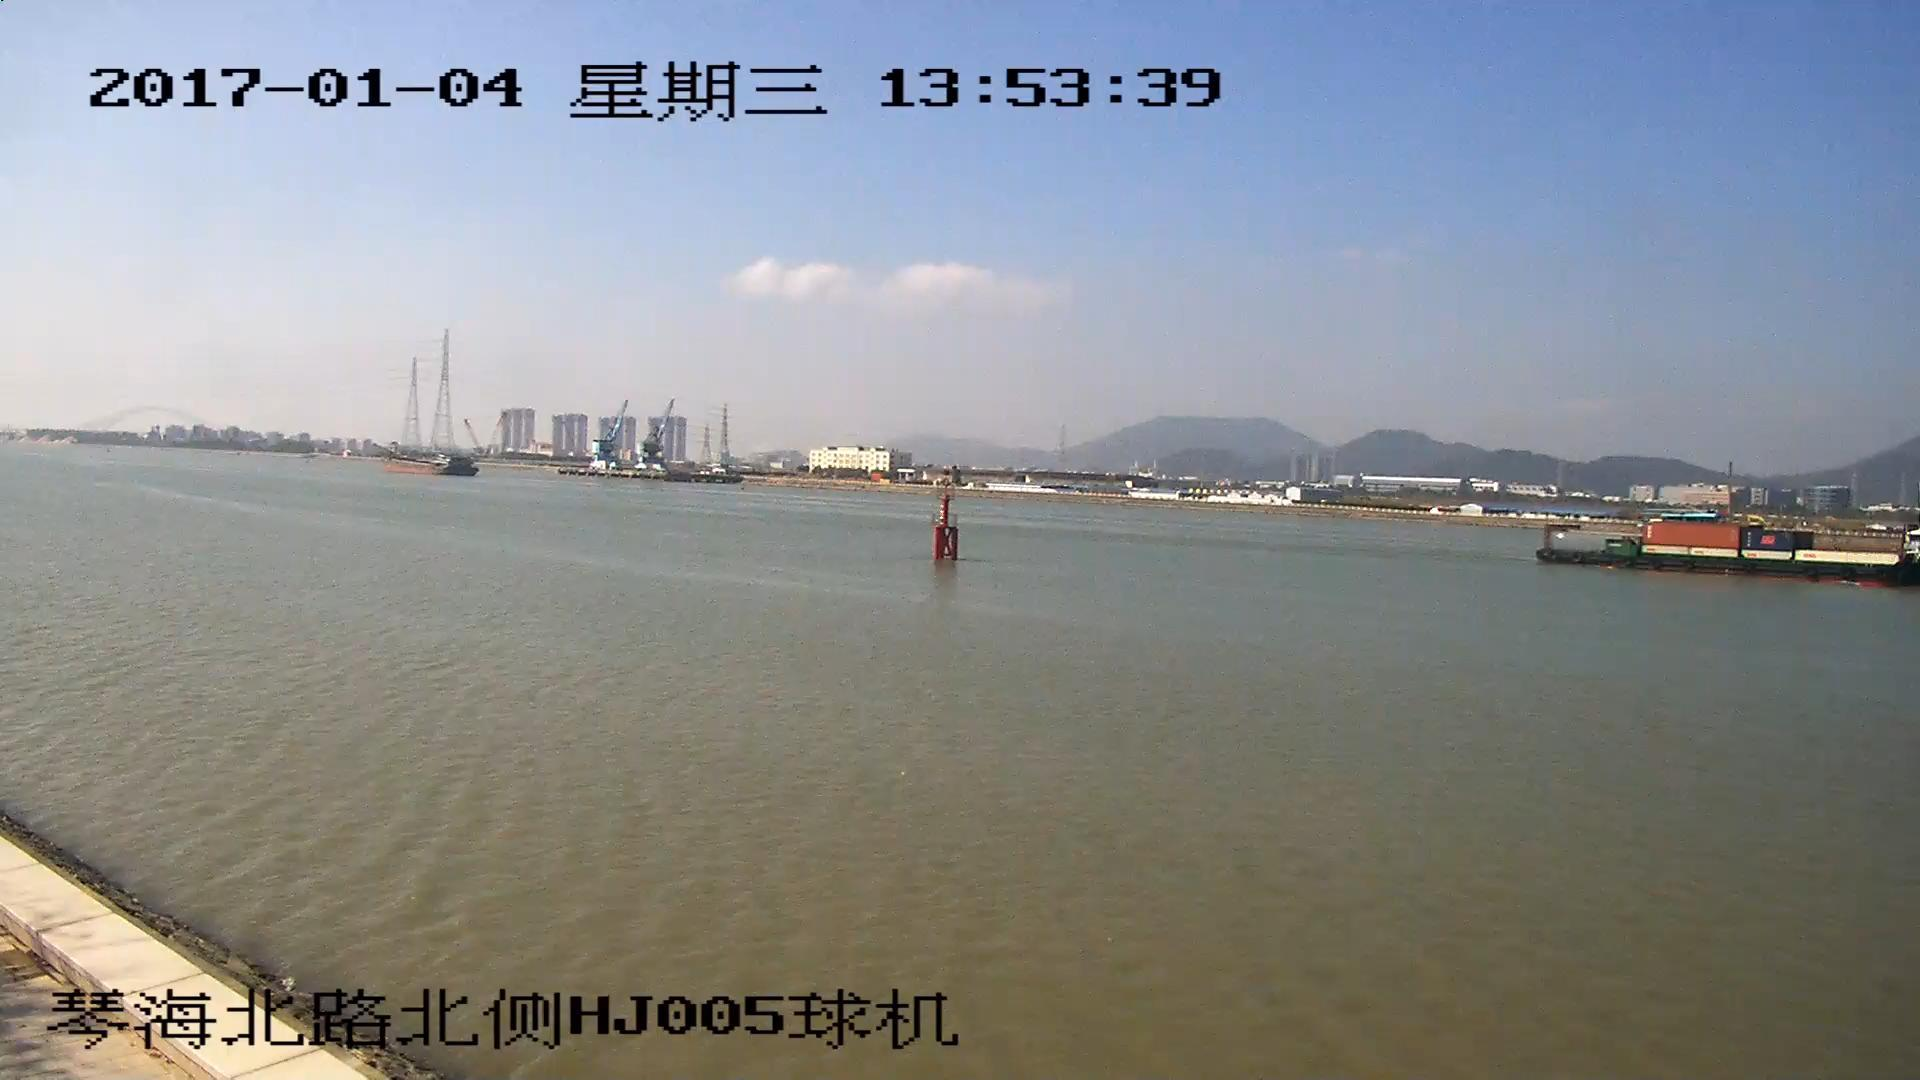Ship: (1619, 520, 1920, 587)
